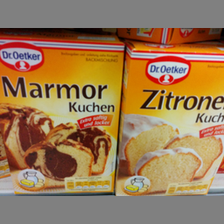cake: (1, 33, 125, 194), (116, 36, 224, 195)
